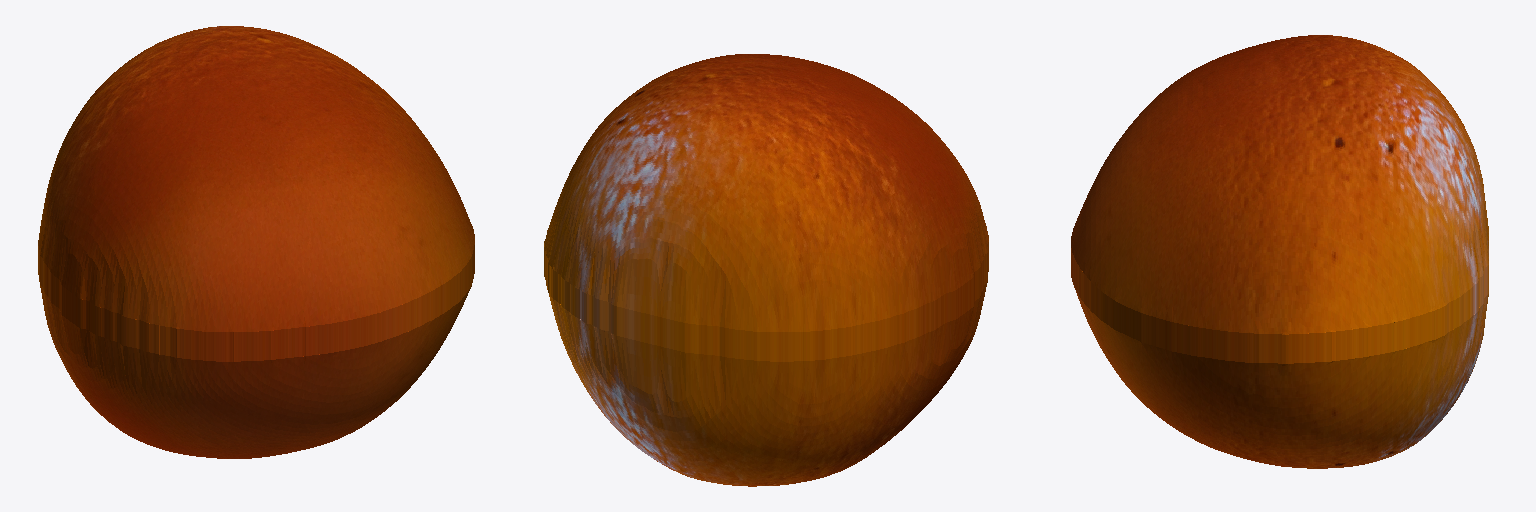
The picture shows the model from 3 angles: view 1: azimuth 30°, elevation 25°; view 2: azimuth 150°, elevation 25°; view 3: azimuth 270°, elevation 25°; orthographic projection.
Visible parts, largest first — view 1: Grid; view 2: Grid; view 3: Grid.
Boxes of the visible parts, x1=… form: Grid: x1=38, y1=26, x2=474, y2=458; Grid: x1=544, y1=54, x2=988, y2=486; Grid: x1=1071, y1=35, x2=1488, y2=468.
Size of the model in its own units: 1.64 by 1.6 by 1.56.
1 materials, 1 textured.